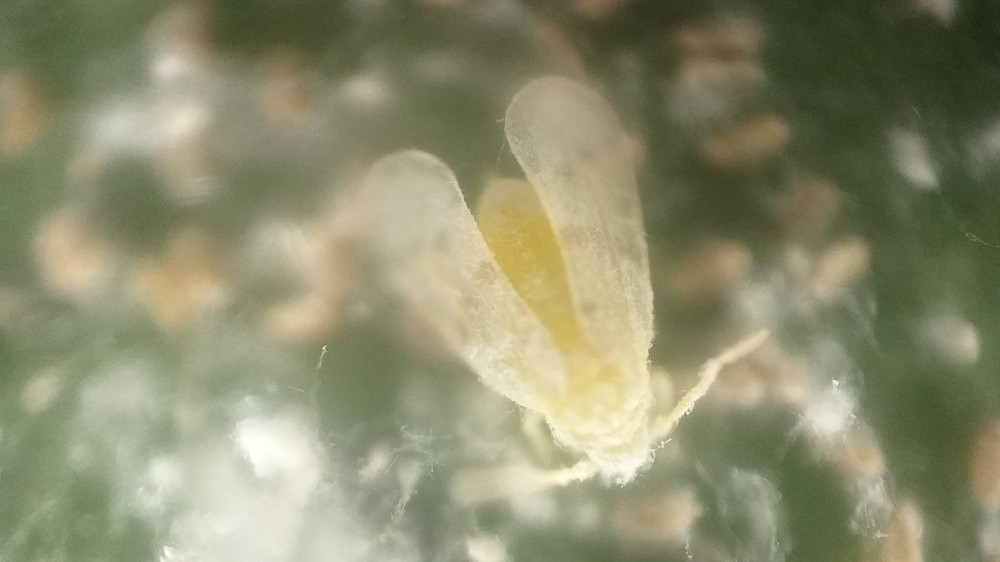Mosca Blanca: (342, 62, 777, 523)
